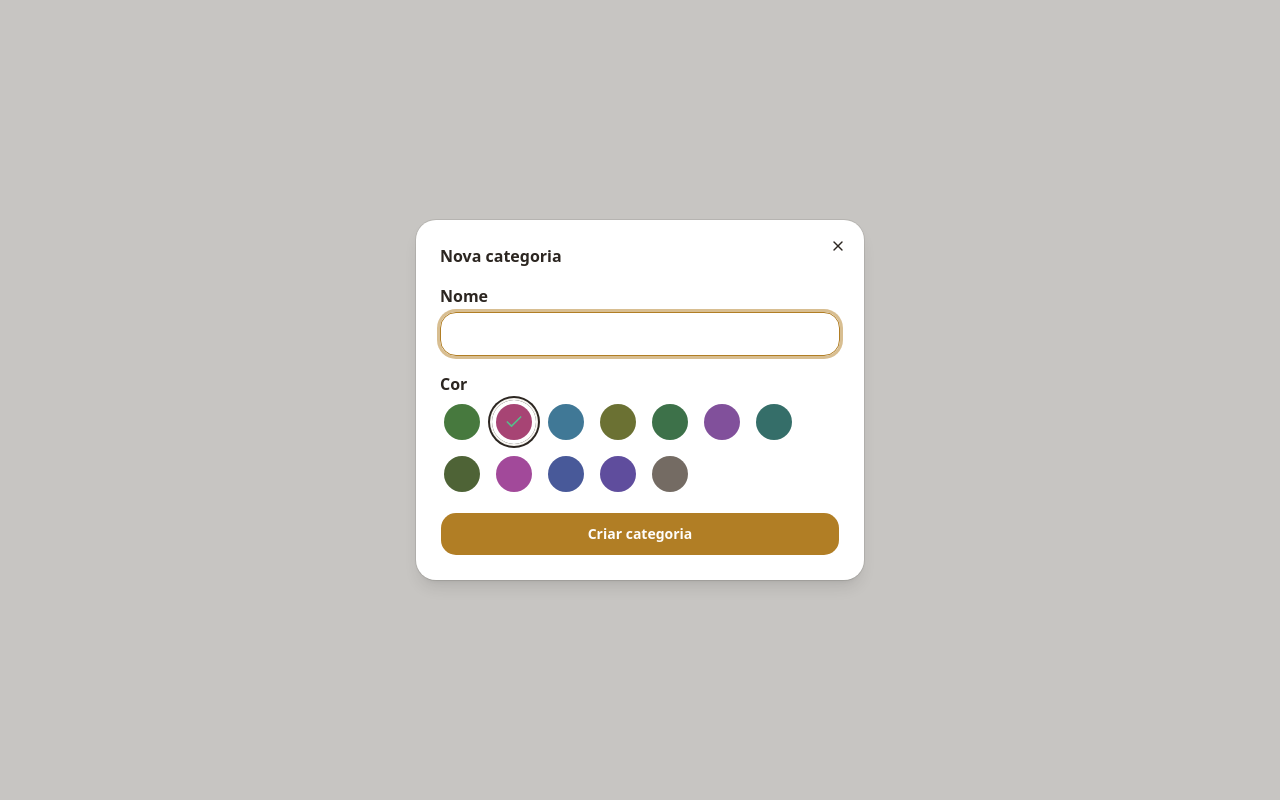
CategoryFormDialog (Screen 6, E5, CAT-02, CAT-03) › nome duplicado normalizado (NFC, sem caixa) é recusado com a cópia exata (CAT-02/encoding, CAT-01/adjacency)
Type "  MERCADO  " into the field labelled "Nome". click: (640, 334)
box: x1=440 y1=312 x2=840 y2=356
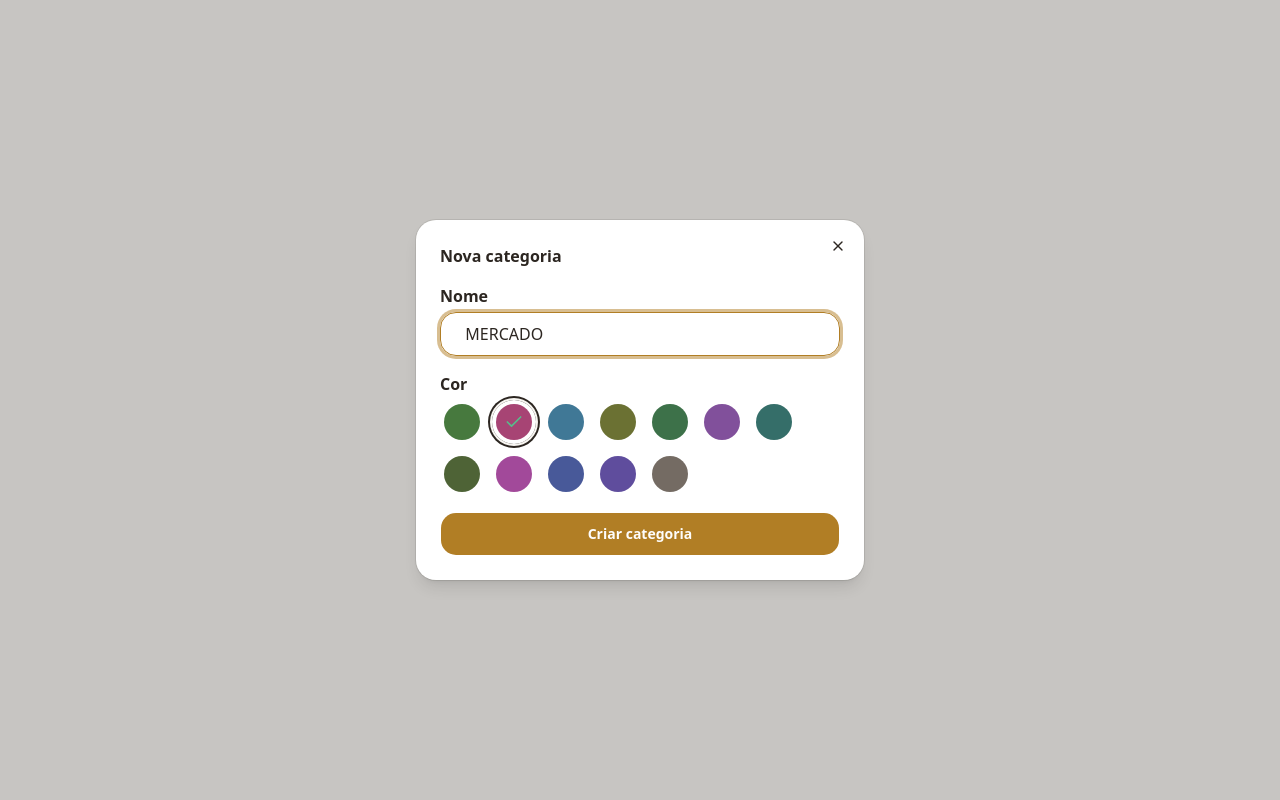
Click the button "Criar categoria". click: (640, 534)
box: x1=440 y1=512 x2=840 y2=556
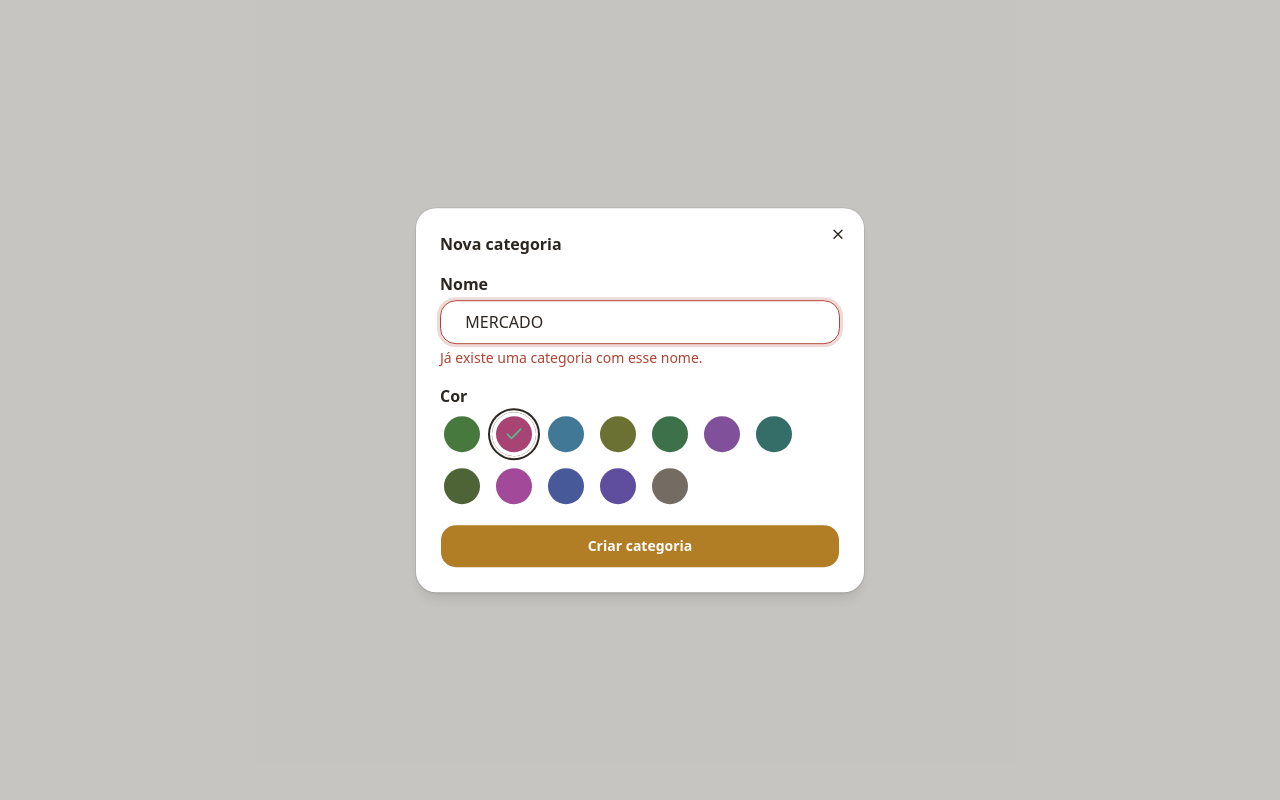
Expected: the text "Já existe uma categoria com esse nome." is shown, x1=440 y1=348 x2=703 y2=367
